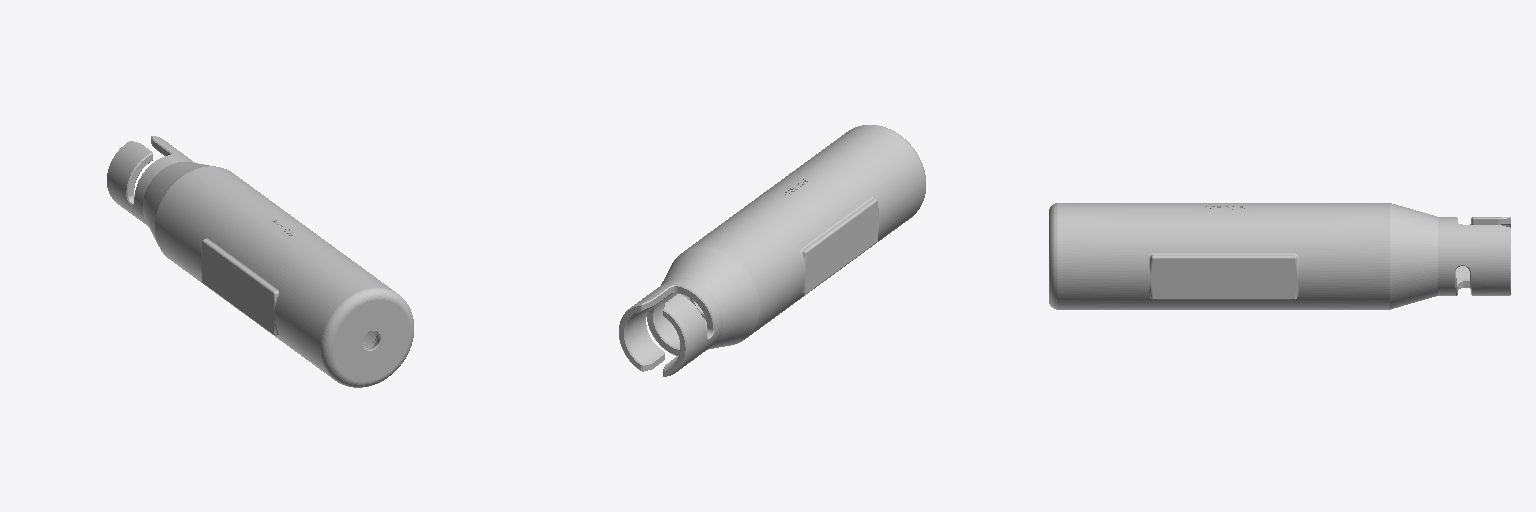
File: ACE 20 B_reservoir.obj
3 renders of one model, left to right at view 1: azimuth 30°, elevation 25°; view 2: azimuth 150°, elevation 25°; view 3: azimuth 270°, elevation 25°, orthographic.
Visible parts, largest first — view 1: Solide1; view 2: Solide1; view 3: Solide1.
Boxes of the visible parts, box(x1,y1,x2,y2) form: Solide1: box(107, 136, 413, 387); Solide1: box(619, 125, 925, 376); Solide1: box(1049, 203, 1510, 309).
Bounding box in the file's own units: 44 × 44.25 × 190.